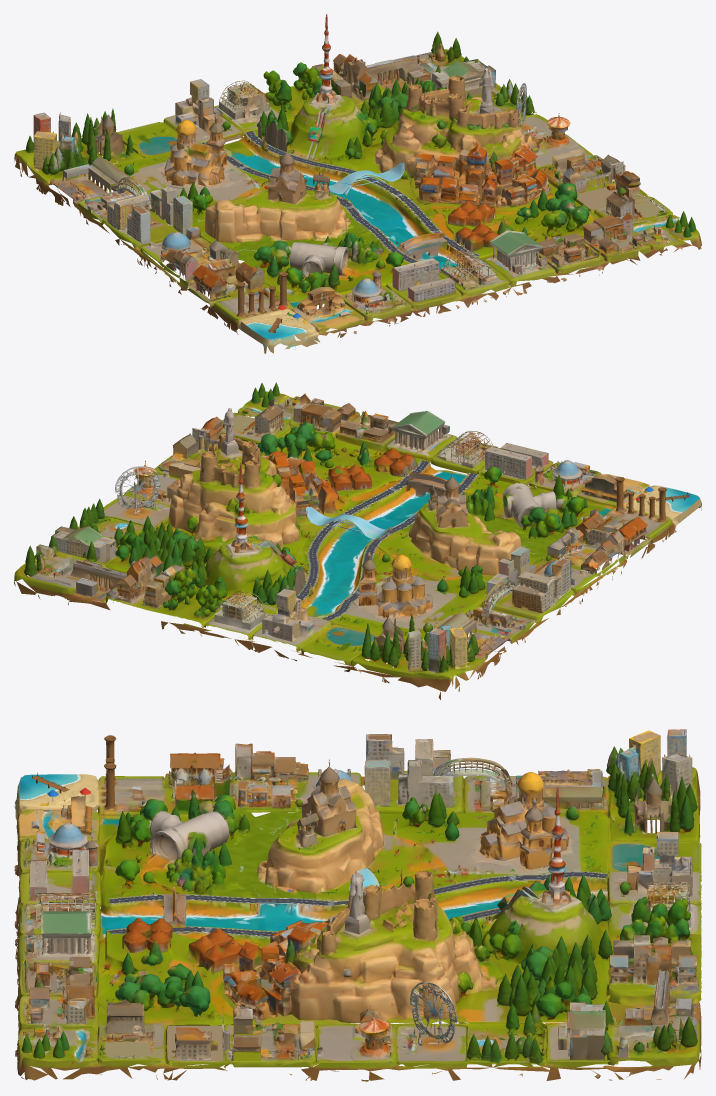
The model's file is m_tb_city.glb.
The picture shows the model from 3 angles, top to bottom: view 1: azimuth 30°, elevation 25°; view 2: azimuth 150°, elevation 25°; view 3: azimuth 270°, elevation 25°; orthographic projection. The views are drawn at different scales.
Parts seen in each view (by area): view 1: city; view 2: city; view 3: city.
Boxes of the visible parts, x1,y1,x2,y2 form: city: (14,14,701,353); city: (14,382,701,699); city: (14,729,701,1081).
Size of the model in its own units: 9.11 by 2.67 by 9.12.
Materials: 1 (1 with a texture image).
